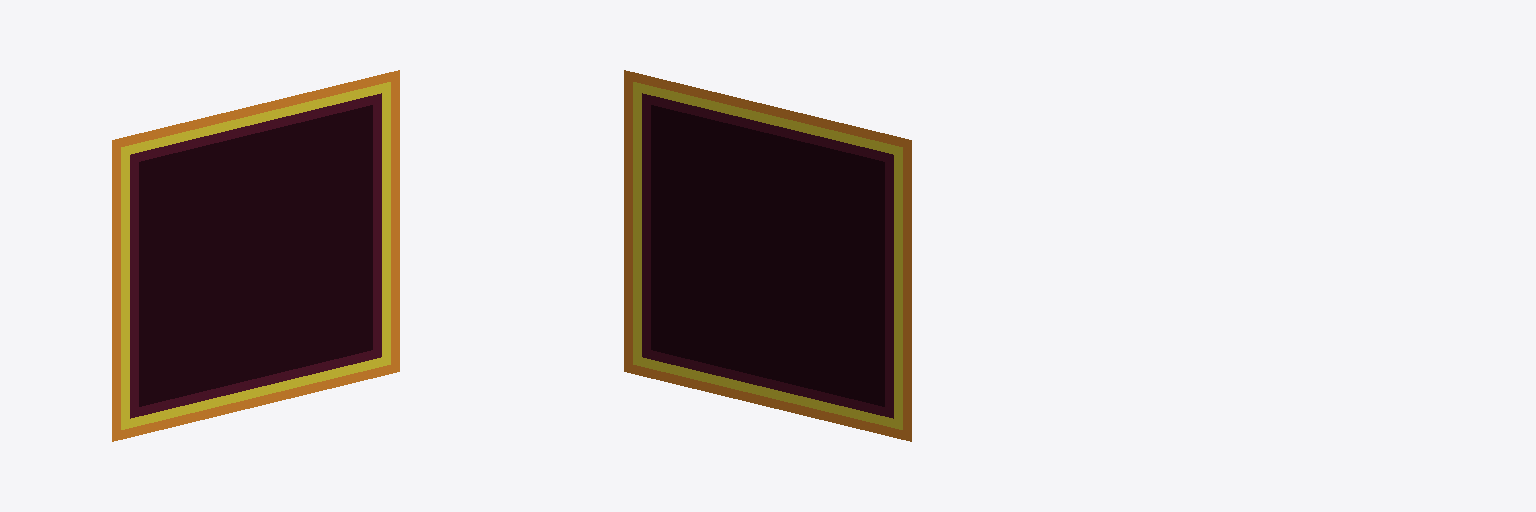
3 views of the same model, side by side, from view 1: azimuth 30°, elevation 25°; view 2: azimuth 150°, elevation 25°; view 3: azimuth 270°, elevation 25° (orthographic).
Visible parts, largest first — view 1: DialogBox; view 2: DialogBox; view 3: none.
Boxes of the visible parts, box(x1,y1,x2,y2) form: DialogBox: box(112, 70, 399, 441); DialogBox: box(624, 70, 911, 441).
Size of the model in its own units: 1 by 1 by 0.
1 materials, 1 textured.